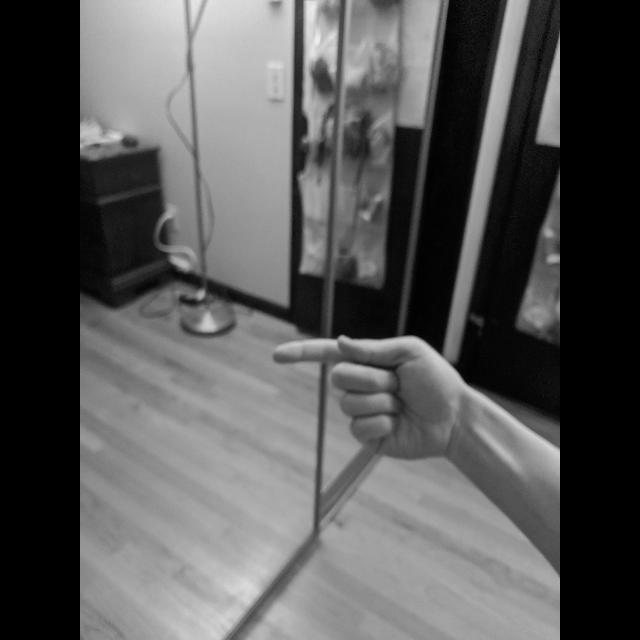G: (266, 329, 464, 466)
